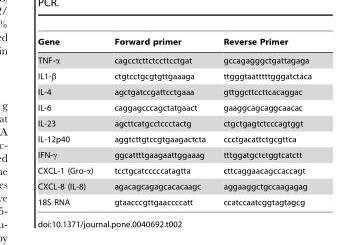table: (37, 37, 310, 206)
table column: (103, 37, 213, 206), (213, 37, 310, 206), (37, 37, 103, 206)
table column header: (37, 37, 310, 50)
table row: (37, 50, 310, 68), (37, 83, 310, 99), (37, 99, 310, 115), (37, 115, 310, 131), (37, 146, 310, 162), (37, 162, 310, 178), (37, 178, 310, 194), (37, 68, 310, 83), (37, 131, 310, 146), (37, 37, 310, 50), (37, 194, 310, 206)
